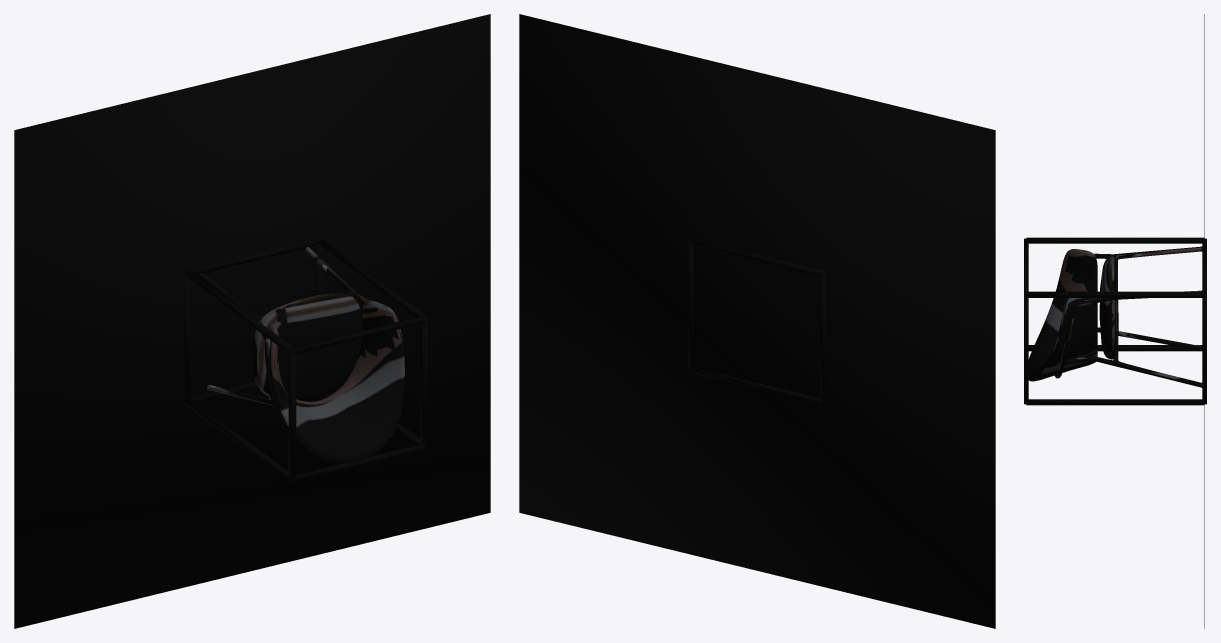
3 renders of one model, left to right at view 1: azimuth 30°, elevation 25°; view 2: azimuth 150°, elevation 25°; view 3: azimuth 270°, elevation 25°, orthographic. The views are drawn at different scales.
Size of the model in its own units: 2 by 2 by 0.79.
